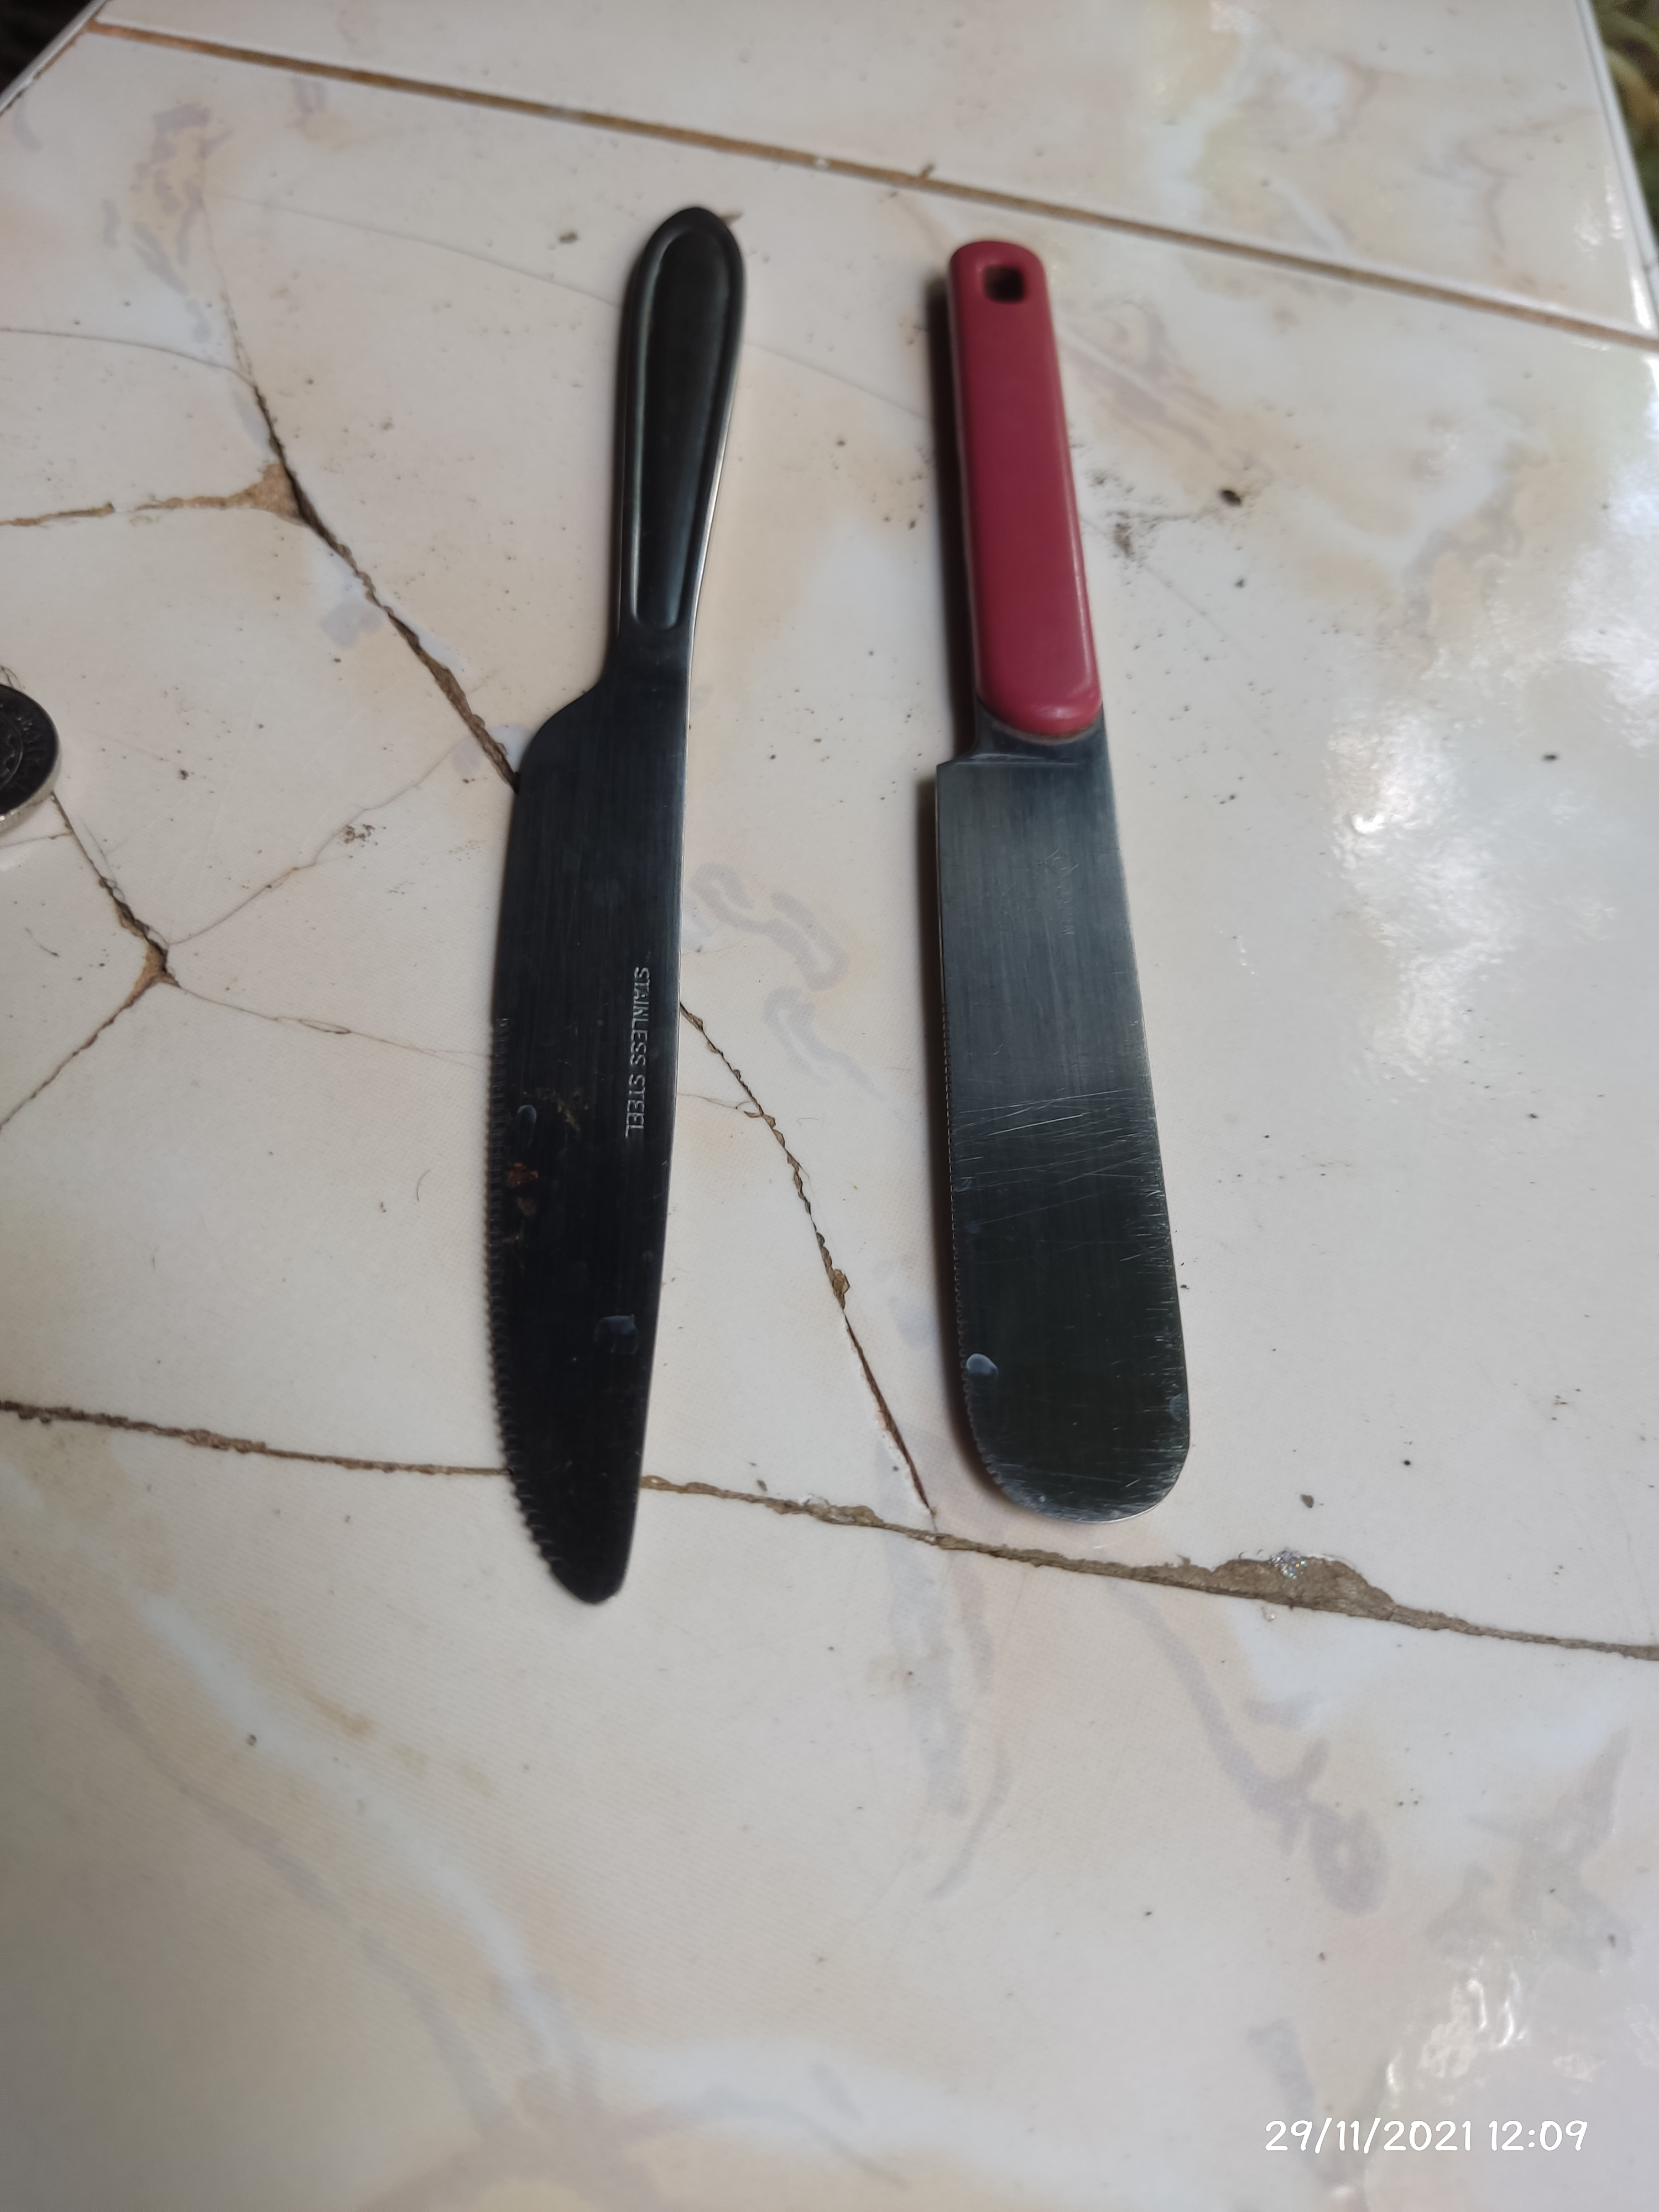knife: (493, 199, 748, 1608)
